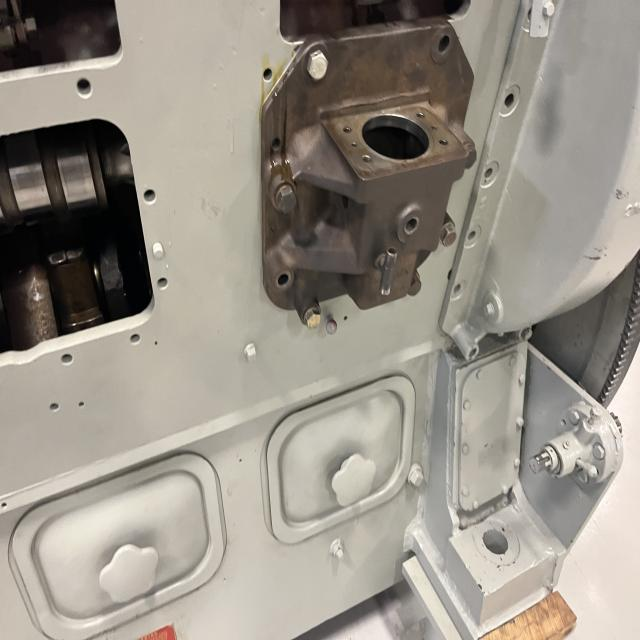Oil Leak: (259, 57, 300, 269)
